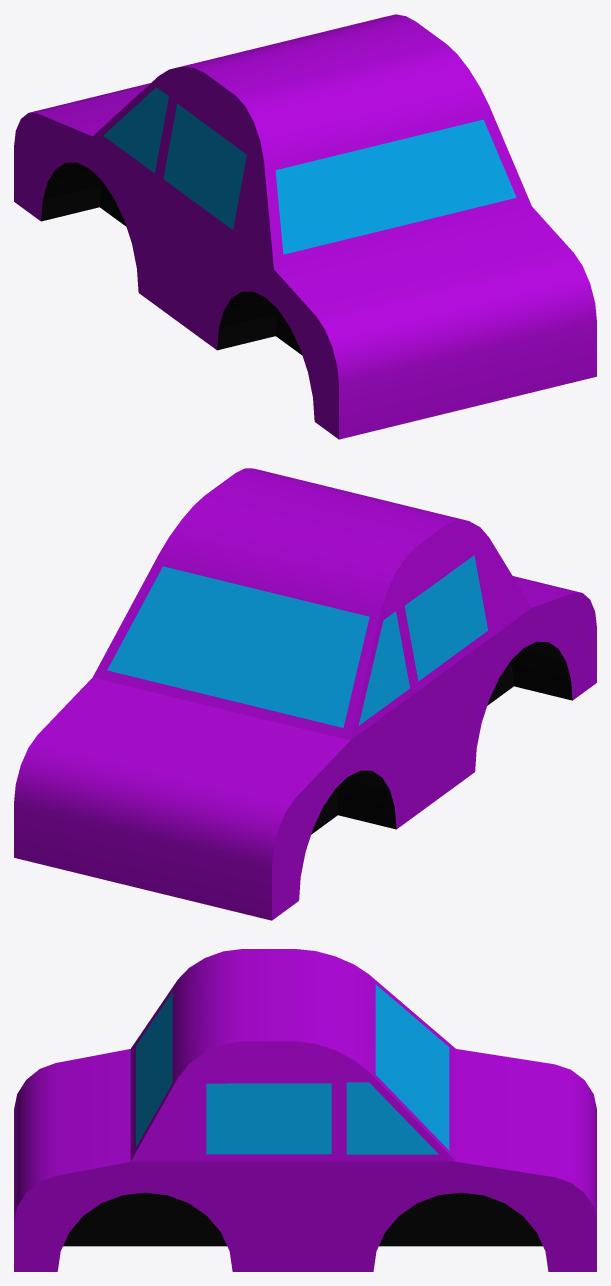
File: Body_Curvy_test.gltf
The picture shows the model from 3 angles, top to bottom: view 1: azimuth 30°, elevation 25°; view 2: azimuth 150°, elevation 25°; view 3: azimuth 270°, elevation 25°; orthographic projection. The views are drawn at different scales.
Visible parts, largest first — view 1: Body_Curvy; view 2: Body_Curvy; view 3: Body_Curvy.
Boxes of the visible parts, x1,y1,x2,y2 form: Body_Curvy: [14, 14, 596, 439]; Body_Curvy: [14, 468, 596, 920]; Body_Curvy: [14, 949, 596, 1271].
Size of the model in its own units: 1.1 by 1 by 2.4.
